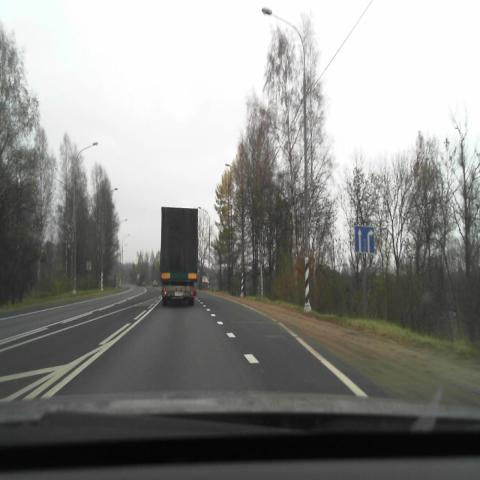5_15_2_2: (354, 226, 374, 253)
